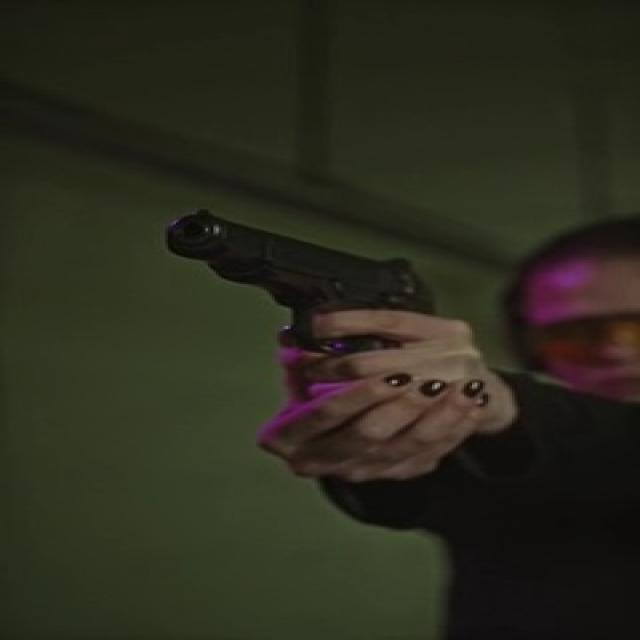Gun_Holder: (140, 208, 565, 504)
Person: (393, 203, 639, 640)
